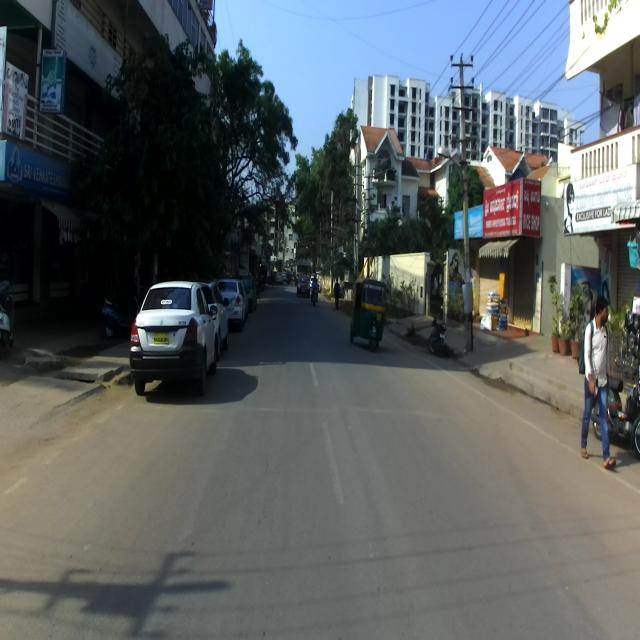auto ahead at: (352, 273, 388, 353)
car ahead at: (134, 277, 217, 377)
electric pole ahead at: (447, 48, 485, 361)
person ahead at: (576, 281, 617, 476)
